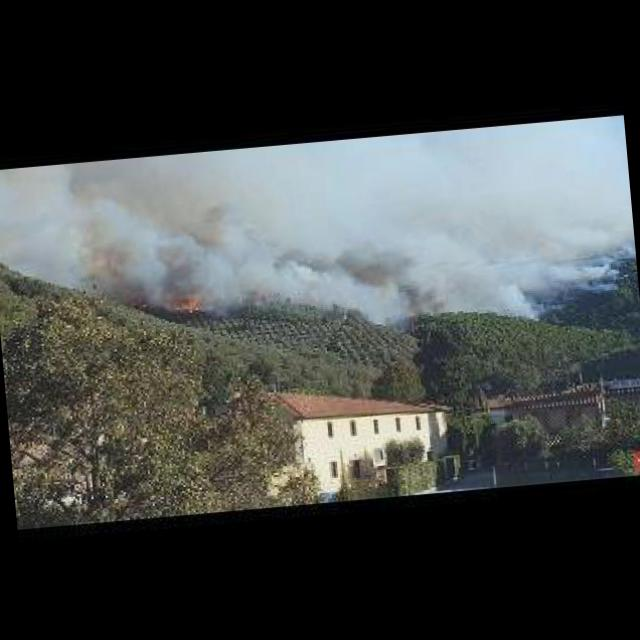fire: (160, 286, 212, 312)
